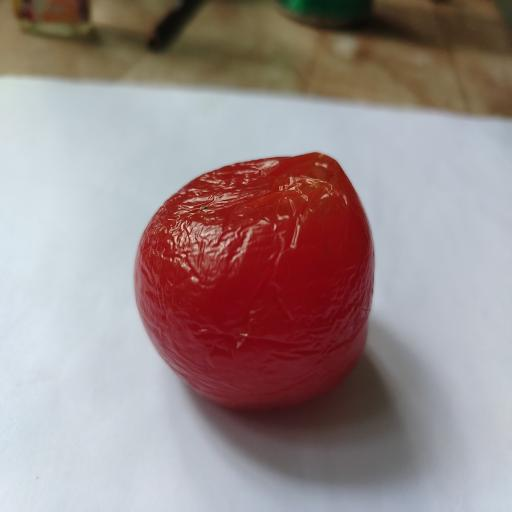spoiled: (135, 153, 374, 408)
